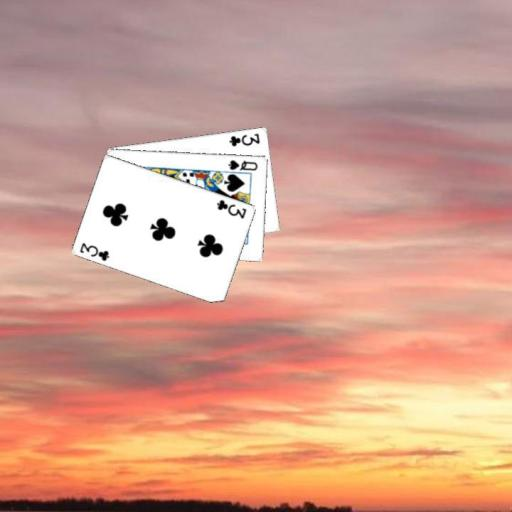3C: (214, 196, 248, 220), (77, 240, 111, 263), (226, 130, 262, 148)
QS: (225, 157, 259, 172)
